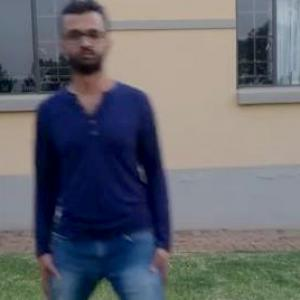follow: (49, 9, 176, 299)
